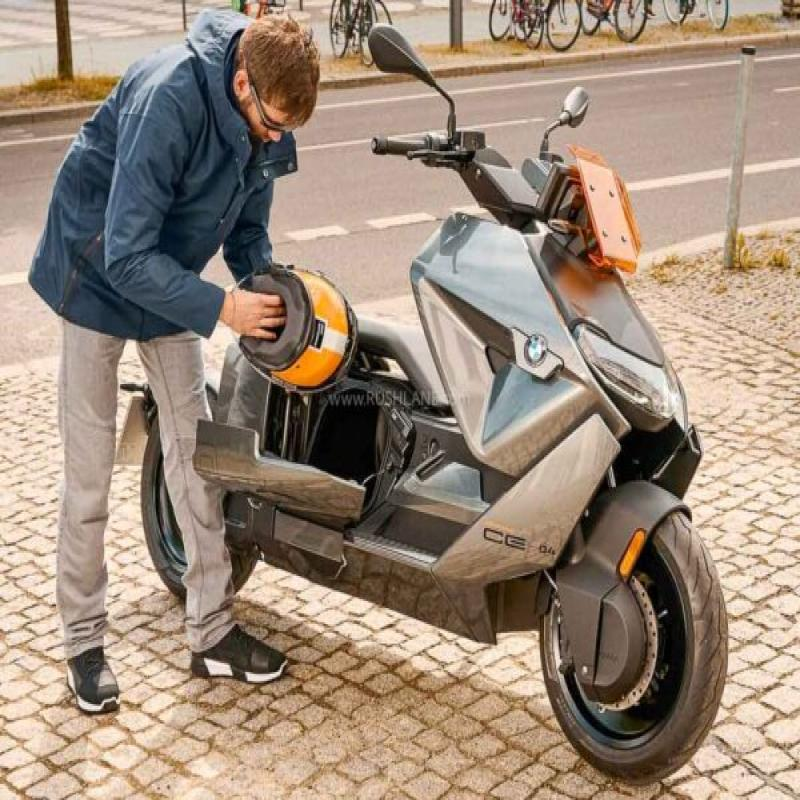bike: (146, 65, 755, 778)
